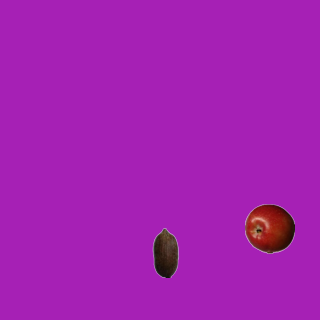Apple Braeburn: (244, 203, 294, 253)
Nut Pecan: (140, 227, 190, 277)
